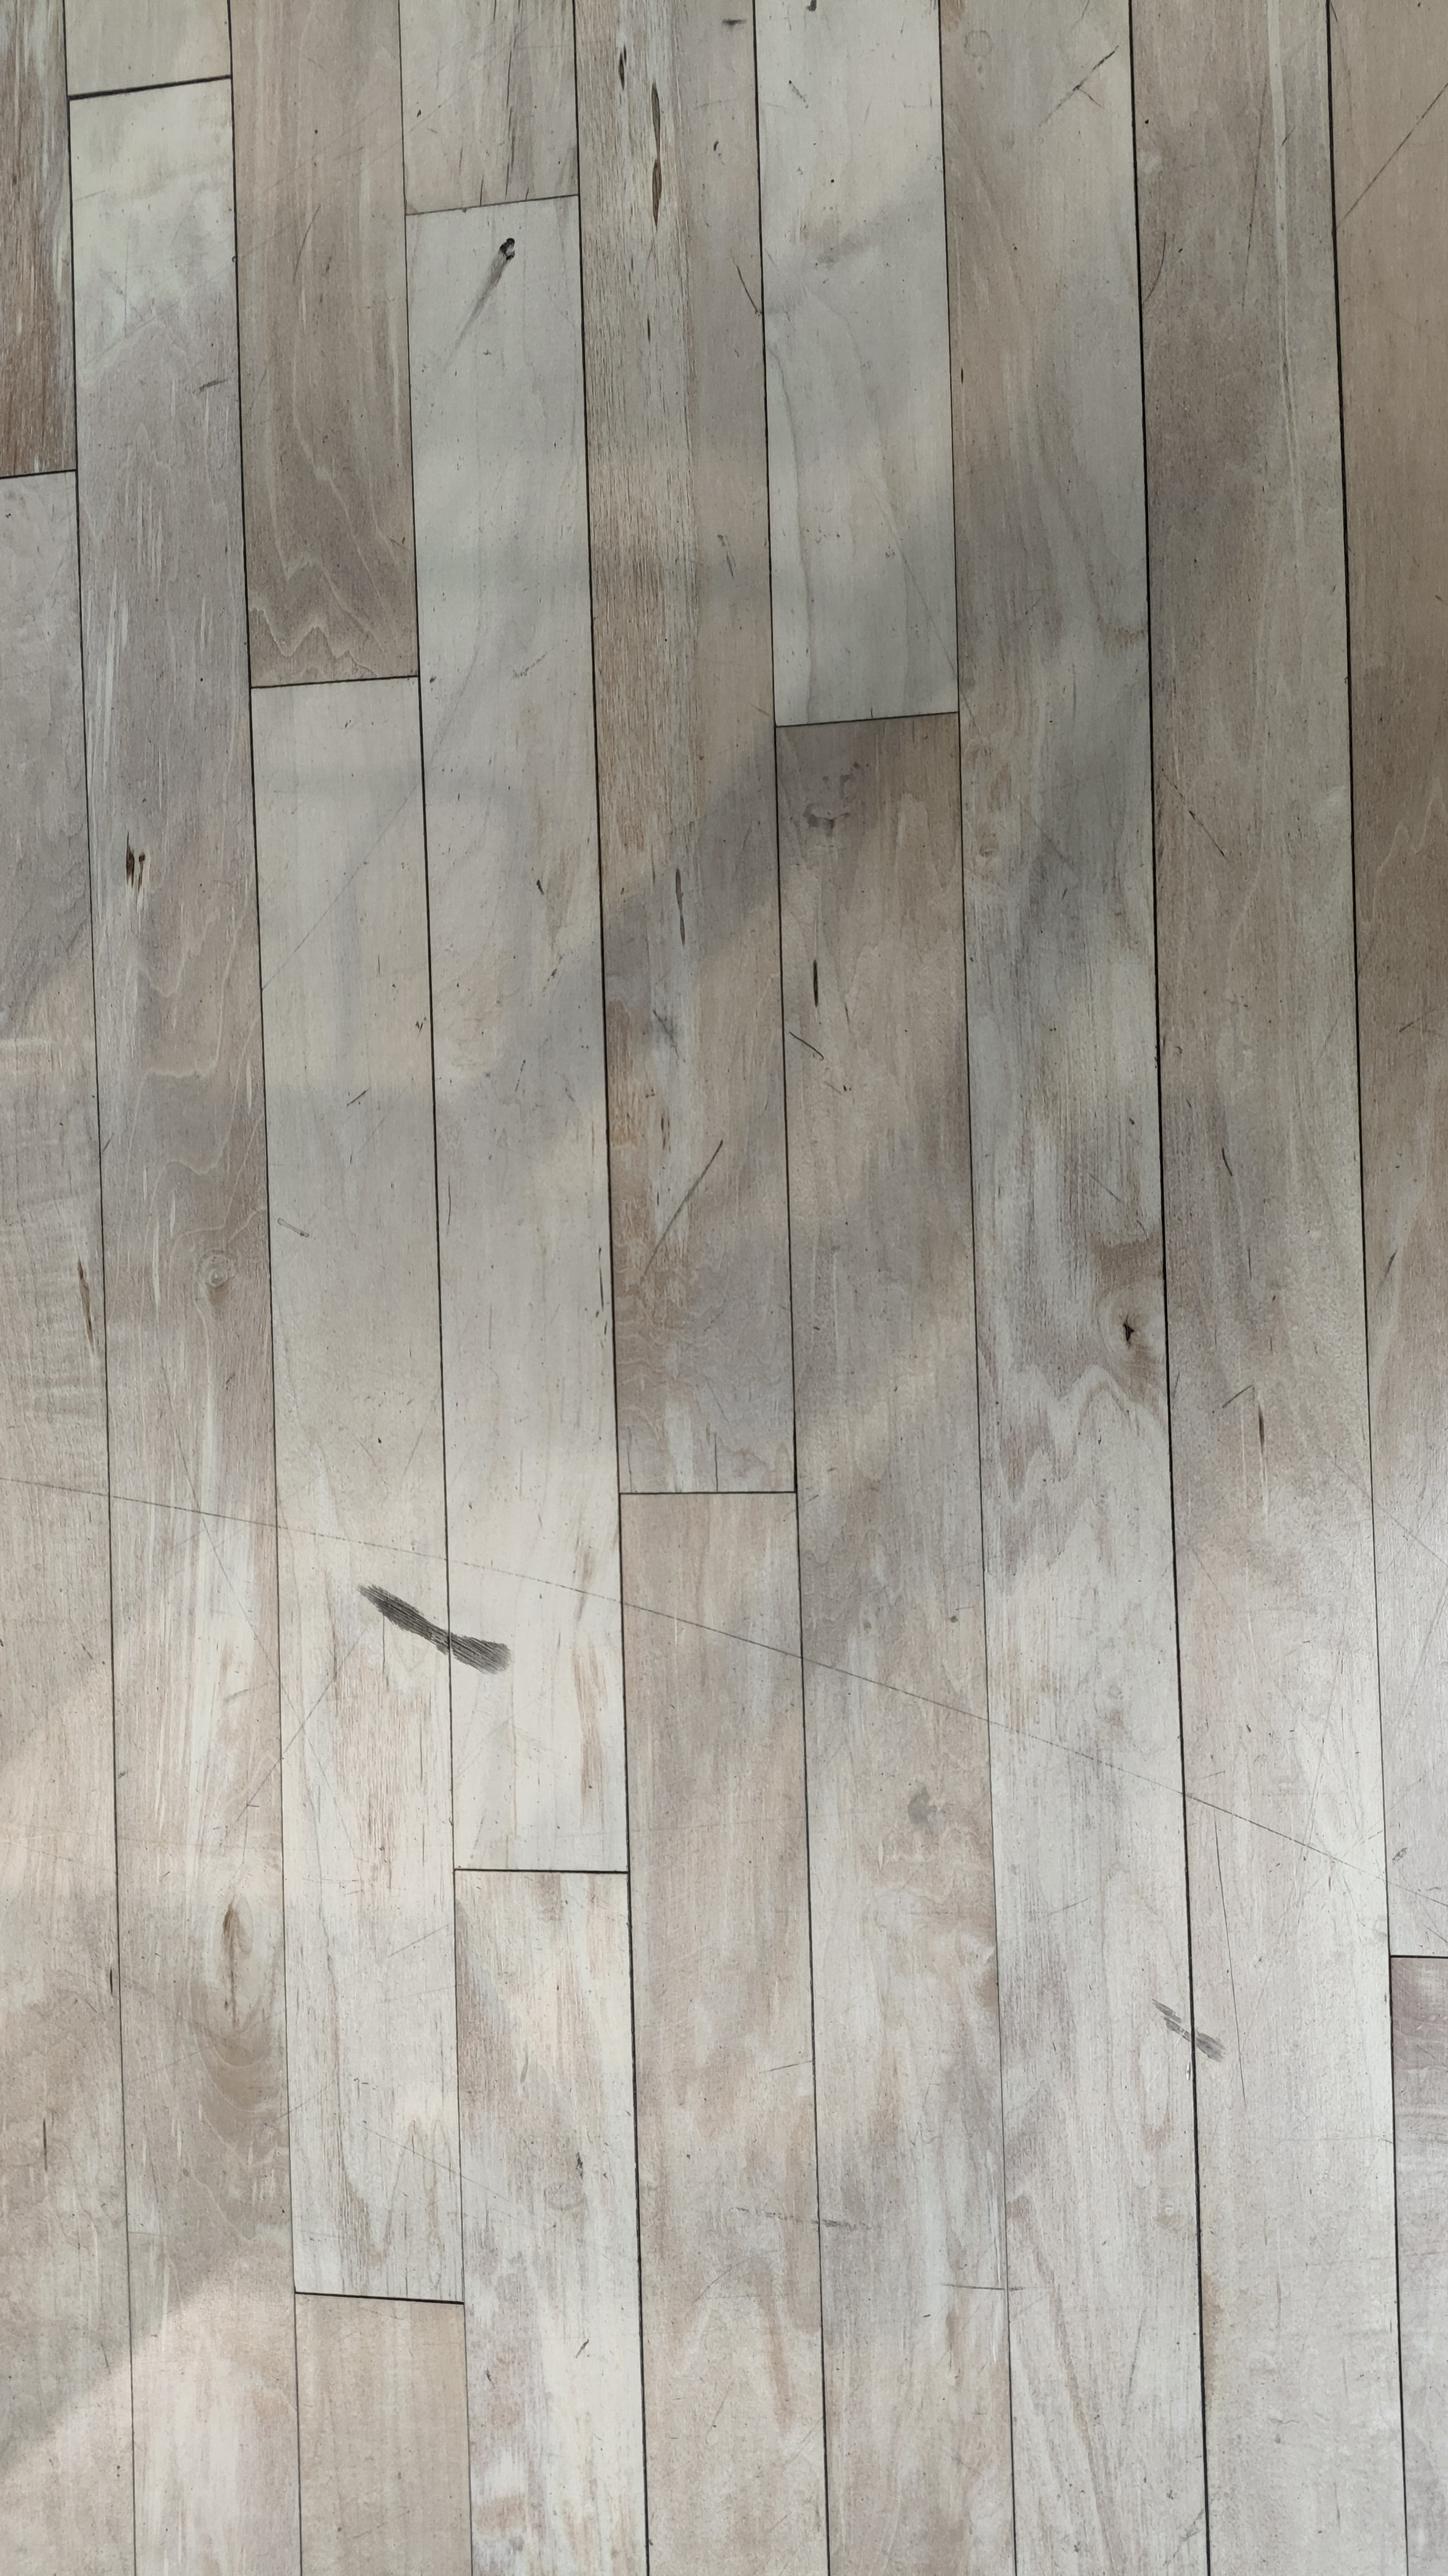Stain: (338, 1575, 546, 1691), (460, 228, 523, 379)
